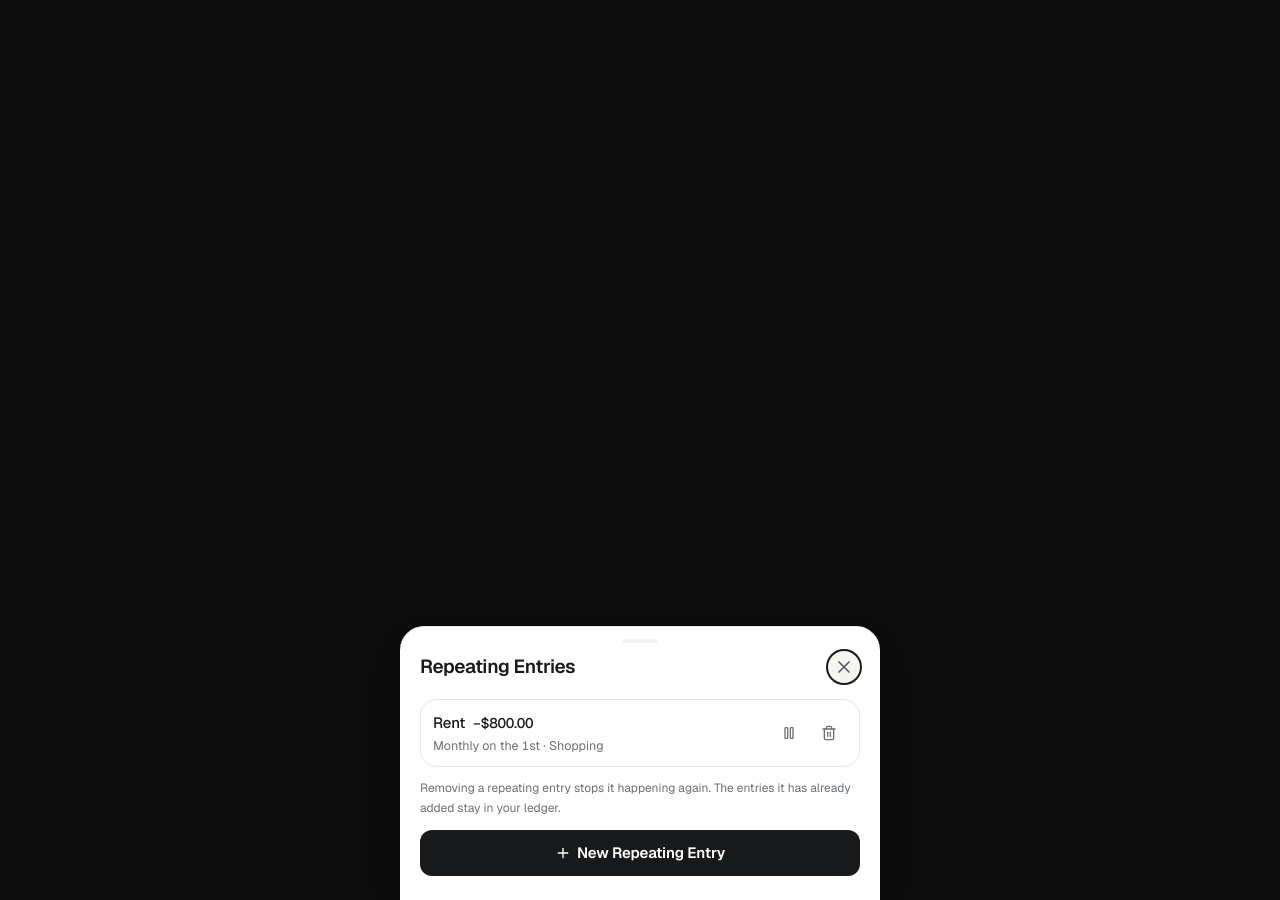
managing rules › lets you back out of a removal, and puts pause back
Click the button named "Remove Rent" at (829, 733), box [811, 715, 847, 751]
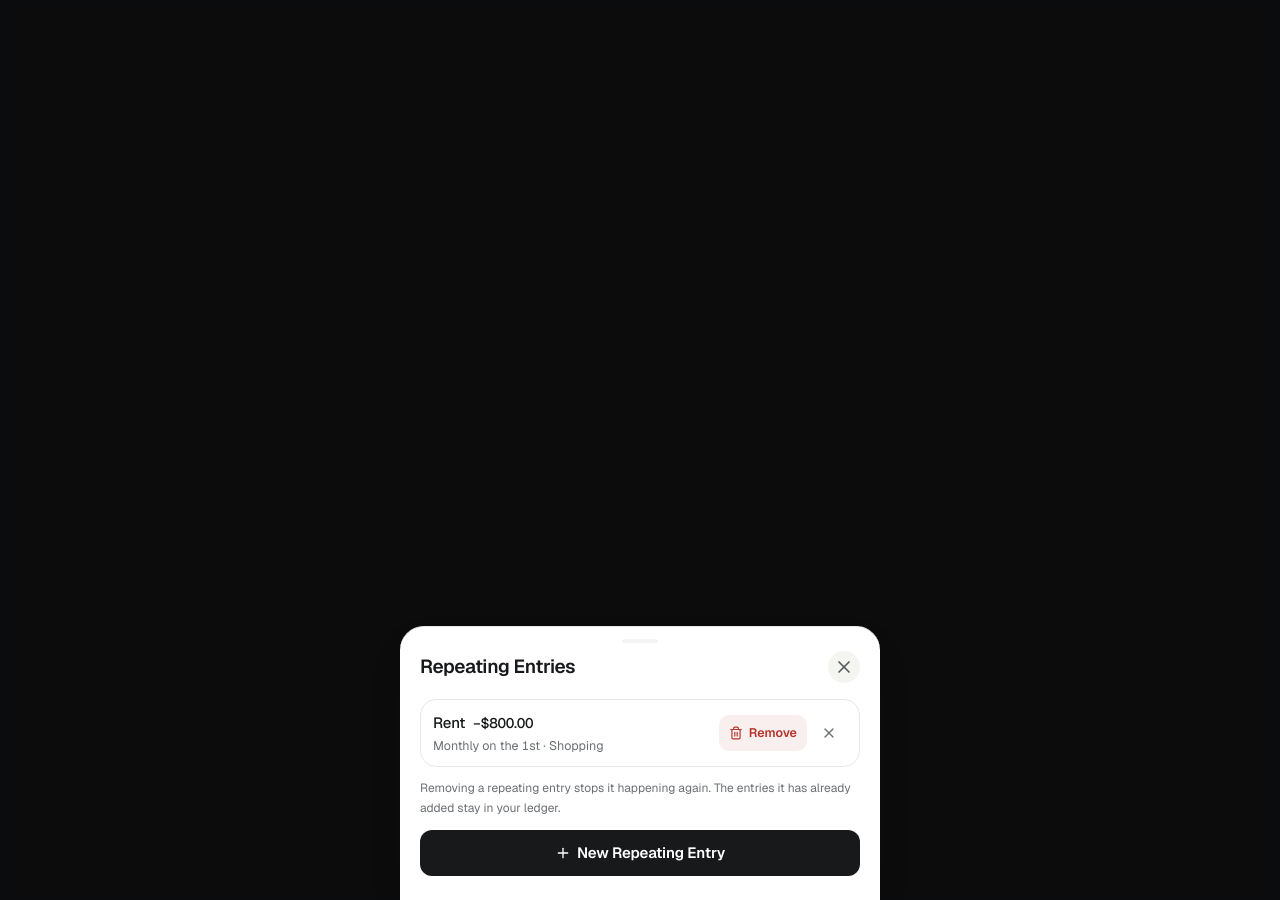
Click the button named "Keep Rent" at (829, 733), box [811, 715, 847, 751]
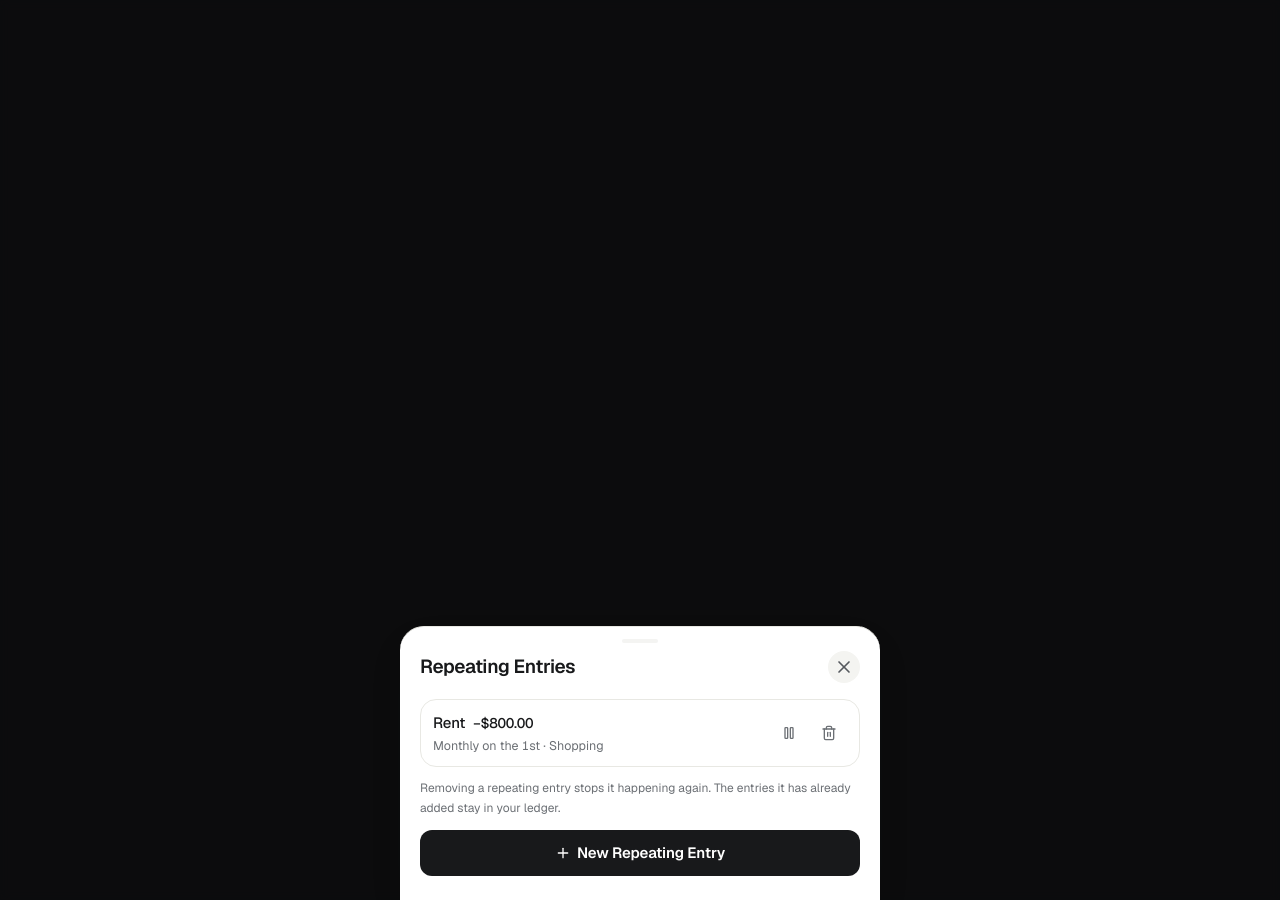
Check: the button named "Pause Rent" is shown, box [771, 715, 807, 751]
